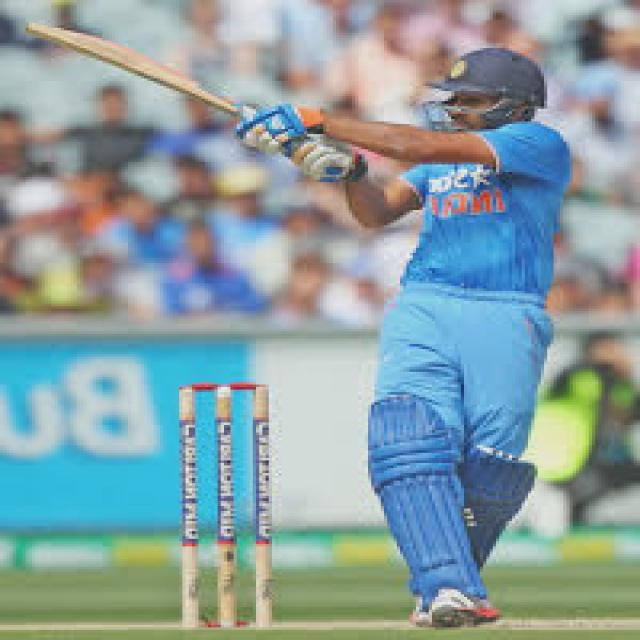toe: (11, 16, 52, 40)
